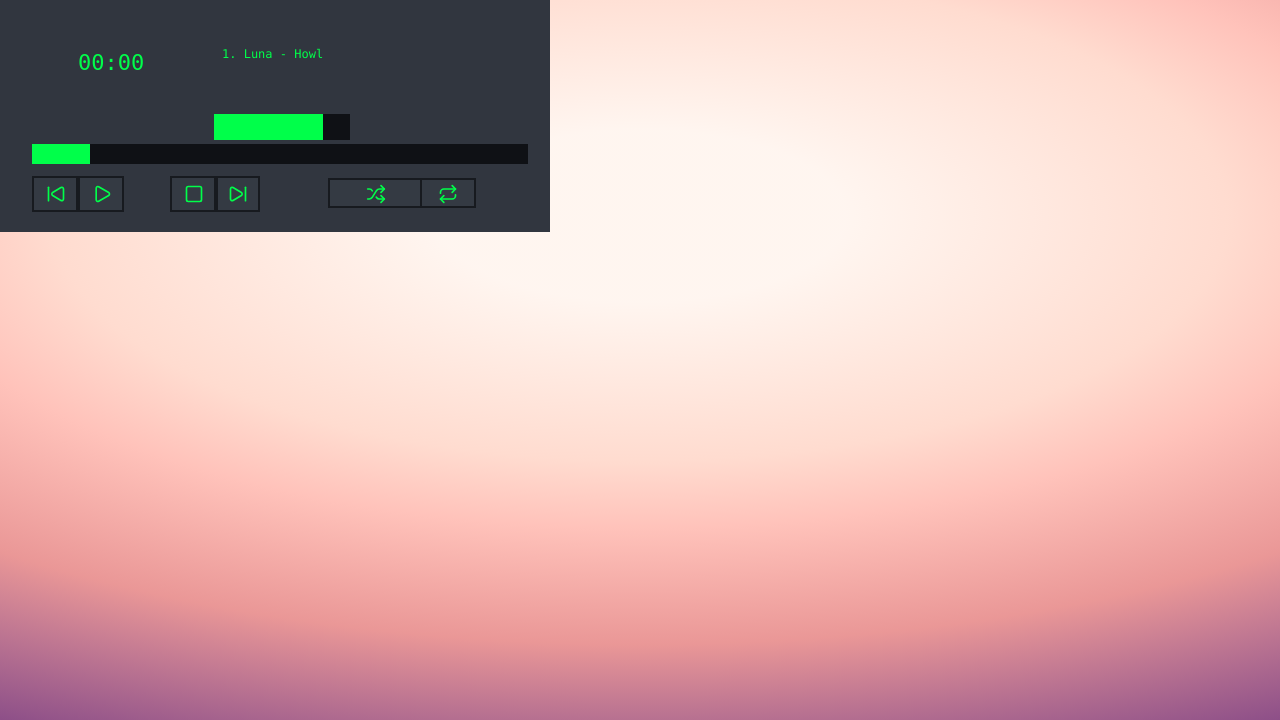
WinampChrome › shows the track, the clock and the transport
Click the button named "Play".
click(101, 194)  # box [78,176,124,212]
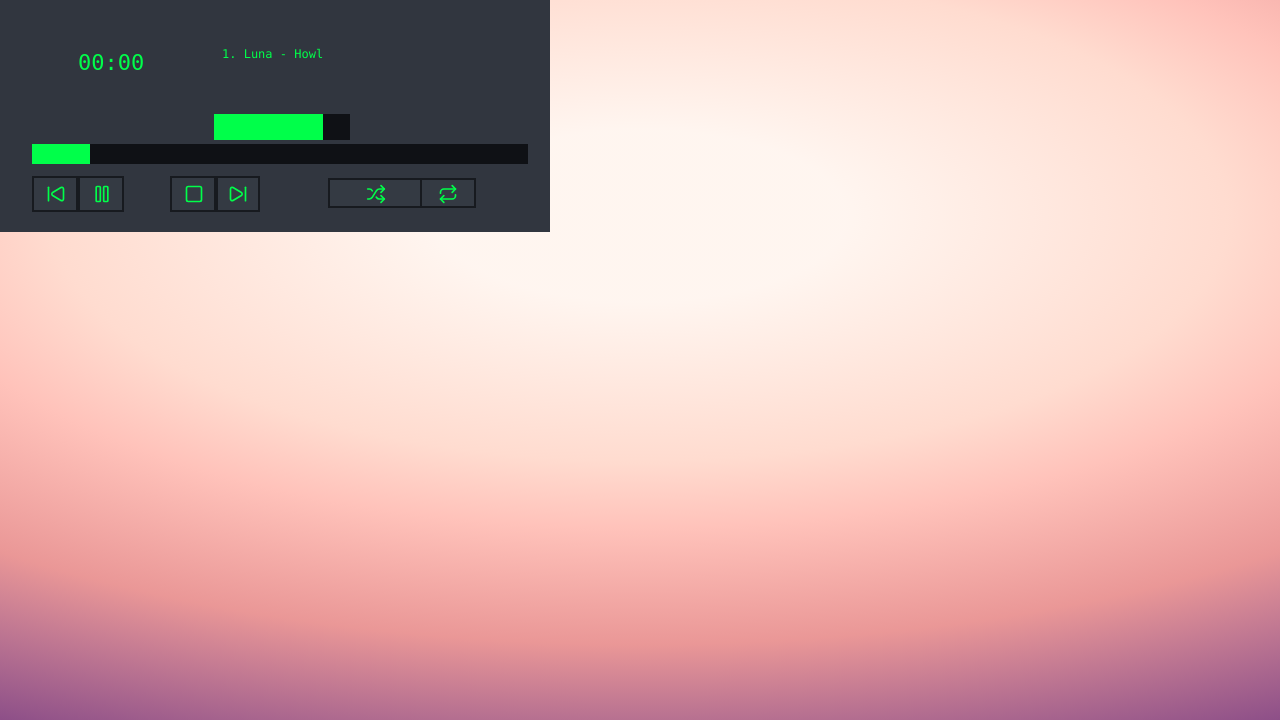
Expected: the text "1. Luna - Howl" is shown, [222,46,323,60]
Expected: the button named "Pause" is shown, [78,176,124,212]
